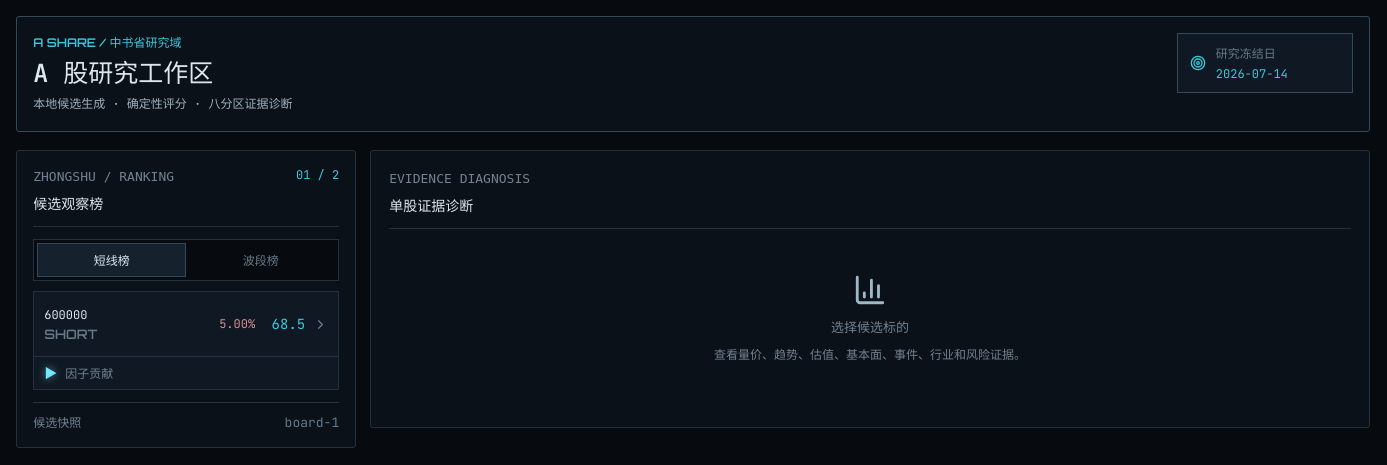
Test: AShareResearchView › keeps short-term and swing candidates separate
This screenshot has width=1387, height=465.
Expected: the button "600000 SHORT 5.00% 68.5" is shown, [34,292,338,356]
Expected: the button "000001" is not shown
Step 1. Click the tab "波段榜" → click(261, 260), box [186,243,335,277]
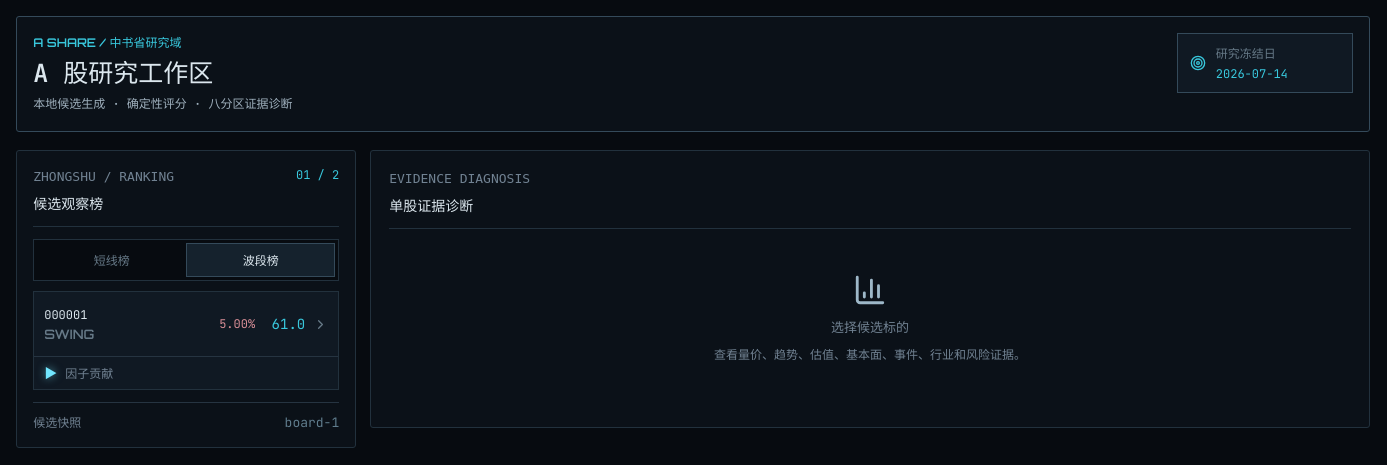
Result: the button "000001 SWING 5.00% 61.0" is shown at [34,292,338,356]
Result: the button "600000" is gone
